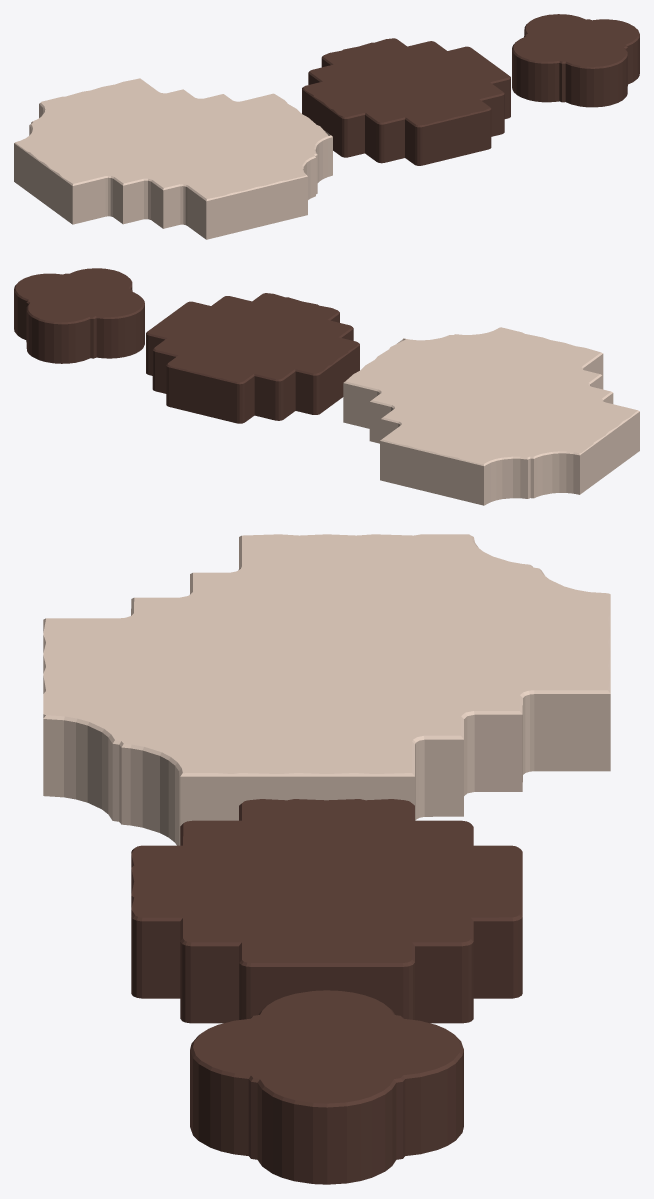
The model's file is mahsulot.glb.
3 views of the same model, one above another, from view 1: azimuth 30°, elevation 25°; view 2: azimuth 150°, elevation 25°; view 3: azimuth 270°, elevation 25° (orthographic). The views are drawn at different scales.
Visible parts, largest first — view 1: mahsulot_A, mahsulot_B, mahsulot_C; view 2: mahsulot_A, mahsulot_B, mahsulot_C; view 3: mahsulot_A, mahsulot_B, mahsulot_C.
Part boxes in pixels (x1,y1,x2,y2): mahsulot_A: (14, 78, 332, 239); mahsulot_B: (302, 38, 510, 165); mahsulot_C: (512, 14, 639, 107); mahsulot_A: (343, 327, 639, 505); mahsulot_B: (146, 293, 359, 423); mahsulot_C: (14, 268, 144, 363); mahsulot_A: (43, 534, 610, 845); mahsulot_B: (131, 799, 522, 1023); mahsulot_C: (190, 990, 463, 1184).
Bounding box in the file's own units: 0.6899 × 0.045 × 0.29.
